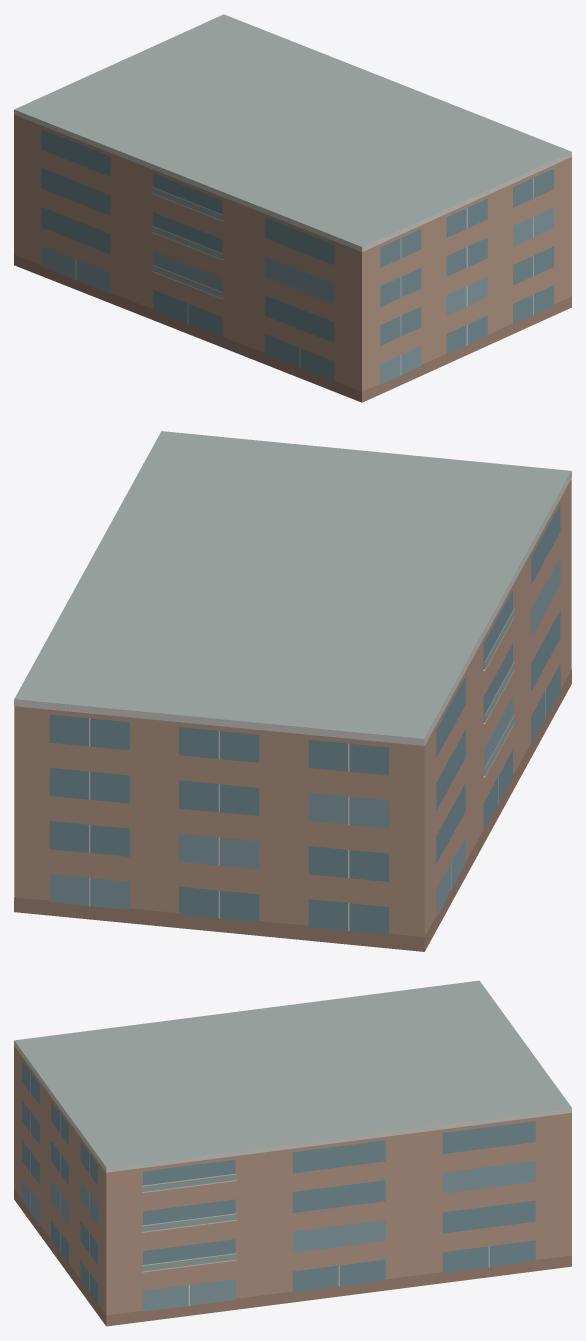
File: survey-upis-32960115.glb
3 renders of one model, top to bottom at view 1: azimuth 30°, elevation 25°; view 2: azimuth 150°, elevation 25°; view 3: azimuth 270°, elevation 25°, orthographic. The views are drawn at different scales.
Parts seen in each view (by area): view 1: survey-upis-32960115.tmp; view 2: survey-upis-32960115.tmp; view 3: survey-upis-32960115.tmp.
Part boxes in pixels (x1=…): survey-upis-32960115.tmp: x1=14, y1=14, x2=571, y2=402; survey-upis-32960115.tmp: x1=14, y1=431, x2=571, y2=951; survey-upis-32960115.tmp: x1=14, y1=980, x2=571, y2=1326.
Size of the model in its own units: 18.67 by 7.4 by 23.54.
